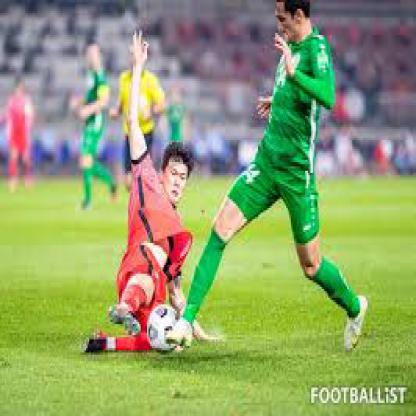Fall_Down: (80, 29, 228, 360)
